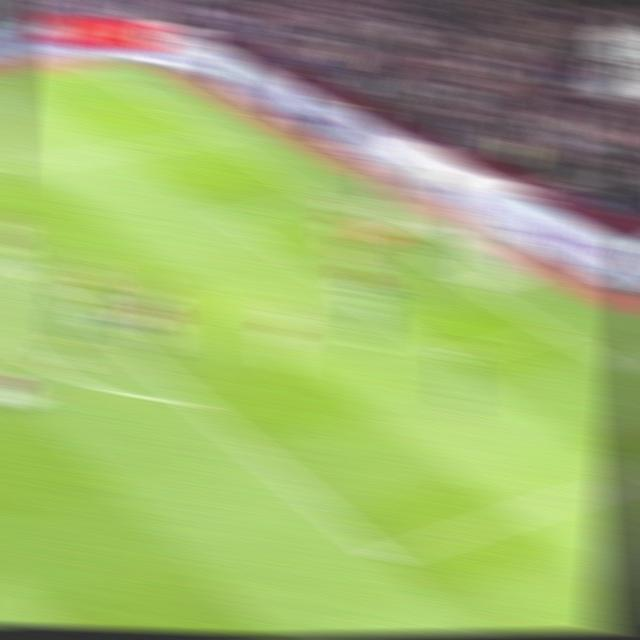bigarea_bottom_inner: (360, 533, 411, 581)
bigarea_top_outter: (193, 127, 226, 144)
bottom_arc_area_intersection: (178, 389, 214, 416)
corner: (76, 61, 111, 77)
smallarea_bottom_outter: (533, 317, 571, 343)
smallarea_top_inner: (211, 205, 246, 228)
smallarea_top_outter: (299, 188, 332, 208)
top_arc_area_intersection: (13, 259, 44, 281)
